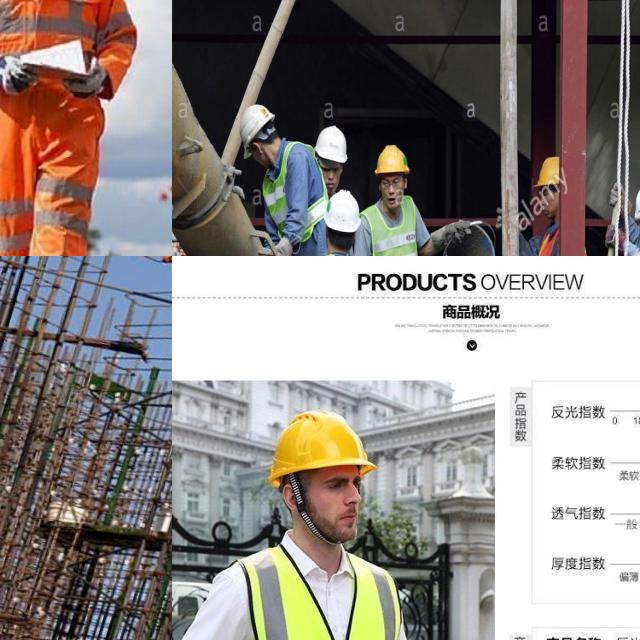face_nomask: (303, 468, 369, 536), (376, 175, 408, 208)
hand_glove: (67, 57, 110, 105), (0, 44, 37, 94), (434, 216, 476, 253)
head_helmet: (270, 412, 379, 476), (238, 104, 276, 141), (316, 125, 349, 163), (330, 190, 360, 229), (372, 144, 411, 171), (536, 159, 563, 184)
person: (216, 410, 421, 640), (0, 0, 137, 256), (240, 105, 324, 256), (364, 142, 431, 256), (529, 152, 590, 256), (308, 126, 348, 205)
vest: (0, 0, 130, 114), (234, 559, 409, 640), (262, 167, 330, 240), (365, 209, 420, 256), (534, 229, 594, 256)
